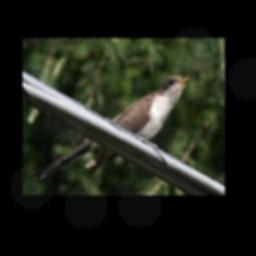Cuckoo: (34, 74, 194, 178)
